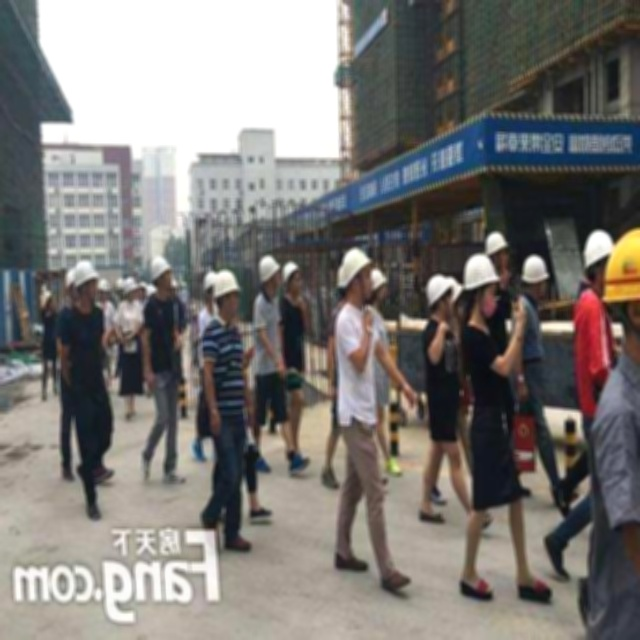Con_Casco: (464, 256, 500, 318), (342, 249, 371, 301)
